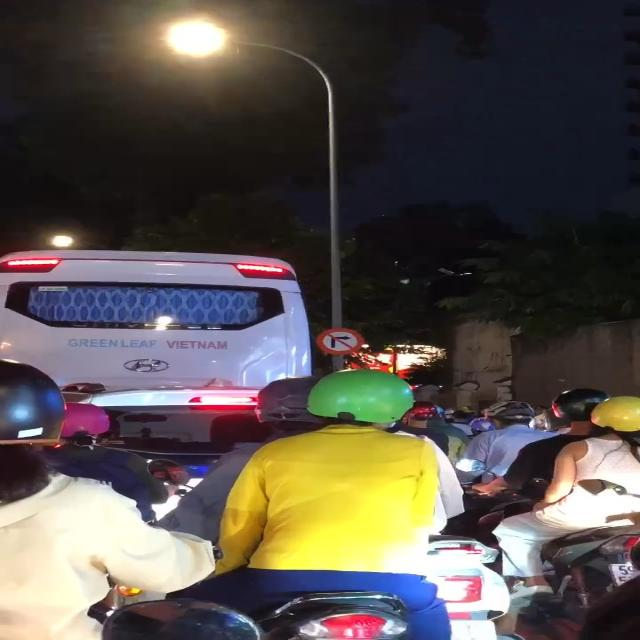Bien bao cam re phai: (318, 326, 364, 354)
